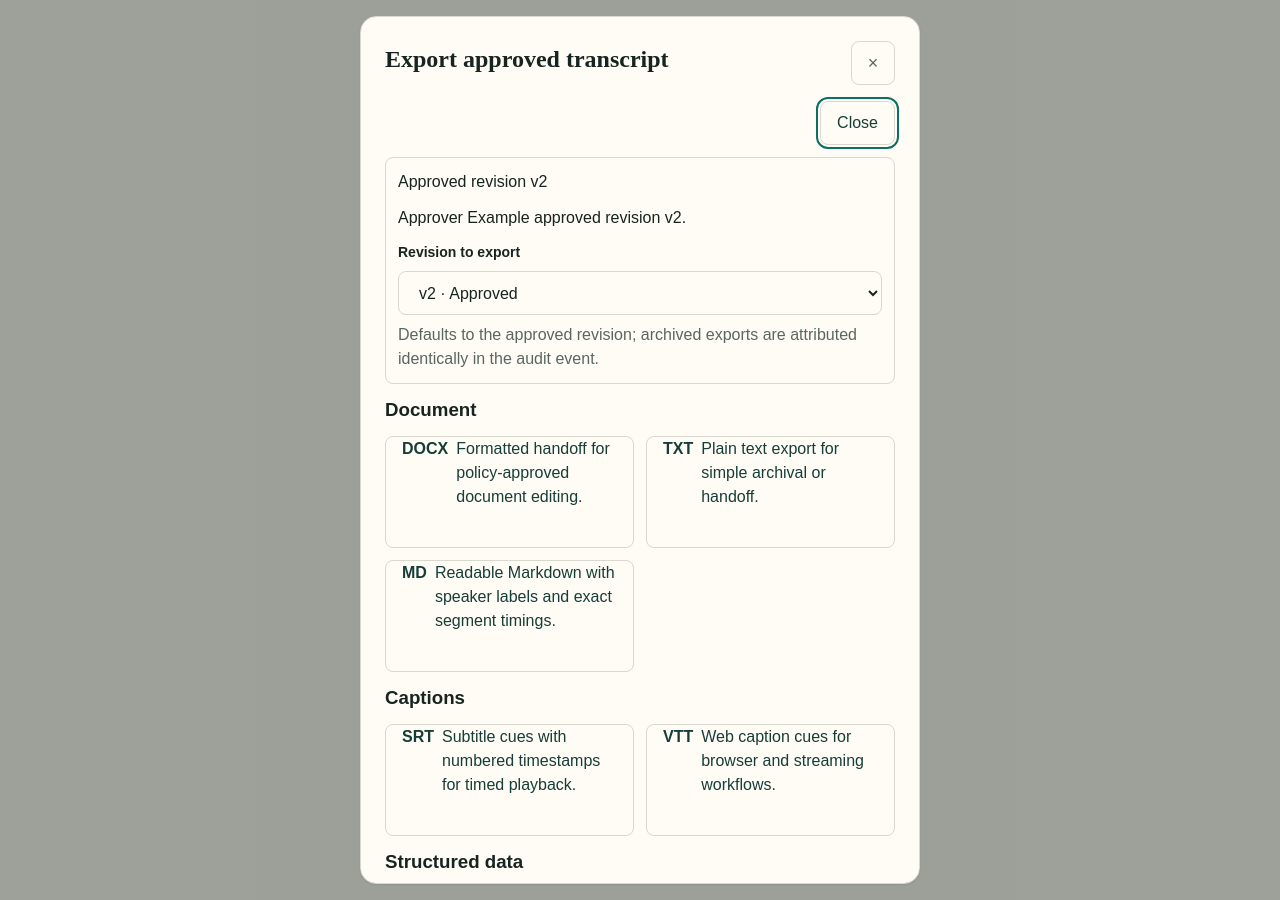
Test case: ExportDialog › updates the heading and approval metadata when the export revision changes
Check: the text "Approved revision v2" is shown, box x1=398 y1=173 x2=547 y2=190
Check: the text "Approver Example approved revision v2." is shown, box x1=398 y1=209 x2=686 y2=226
Step 1. Select "v1 · Archived" in the dropdown labelled "Revision to export" → {"x": 640, "y": 293}, box x1=398 y1=271 x2=882 y2=315
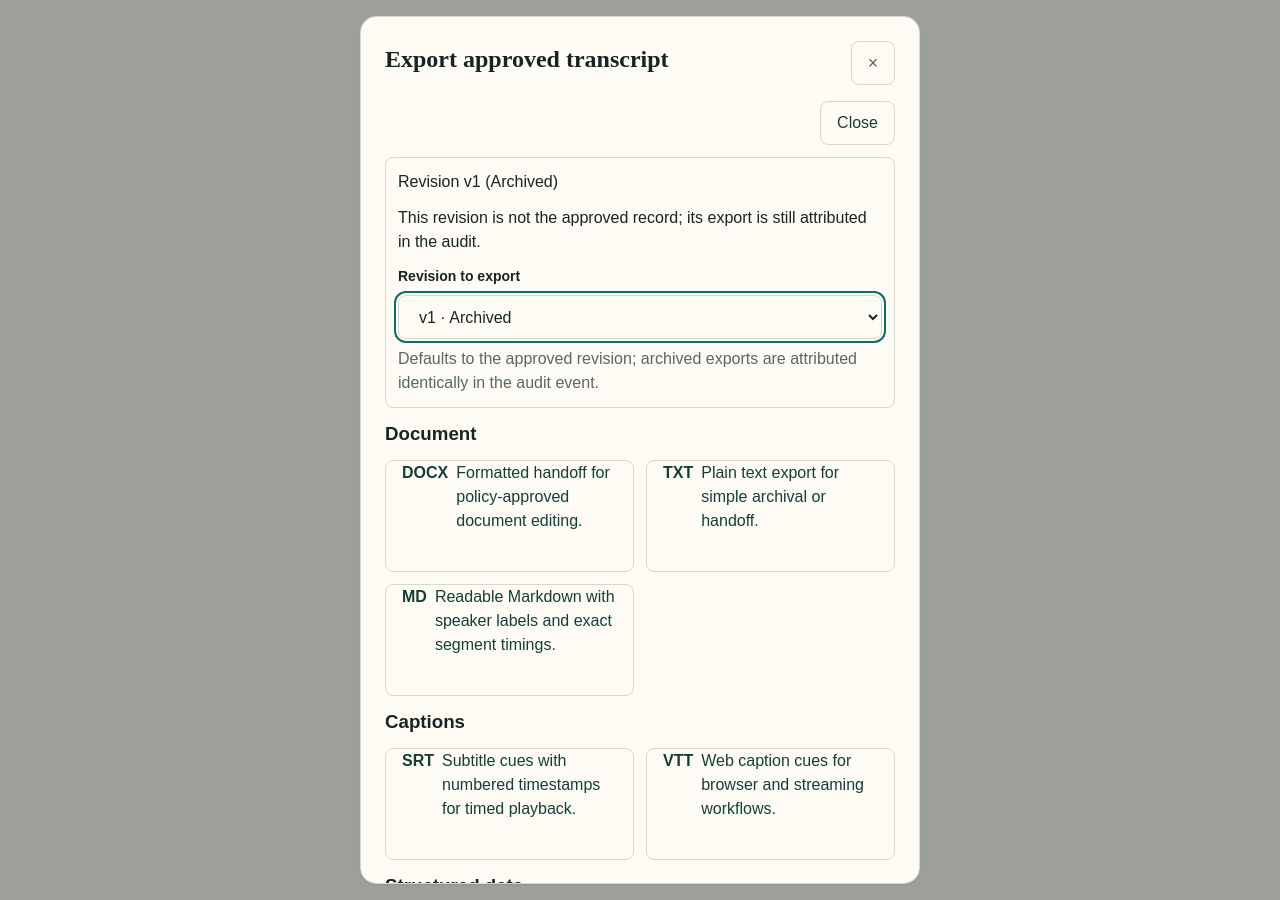
Check: the text "Revision v1 (Archived)" is shown, box x1=398 y1=173 x2=558 y2=190
Check: the text "This revision is not the approved record; its export is still attributed in the audit." is shown, box x1=398 y1=209 x2=867 y2=250
